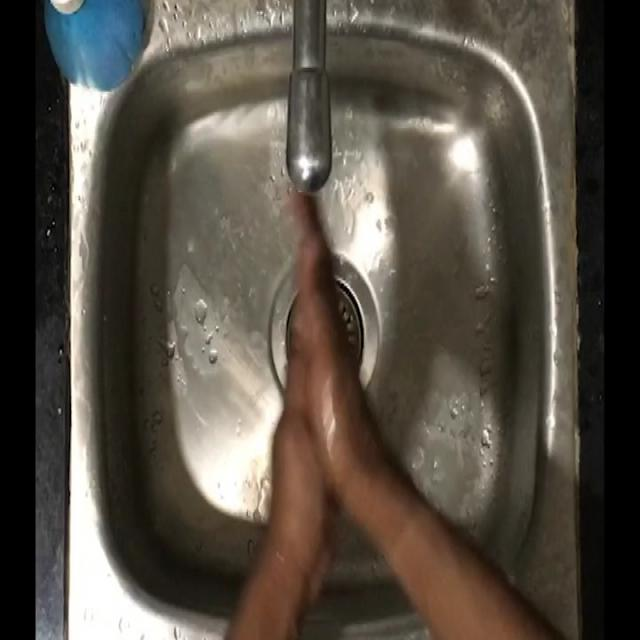step_1: (252, 172, 376, 510)
